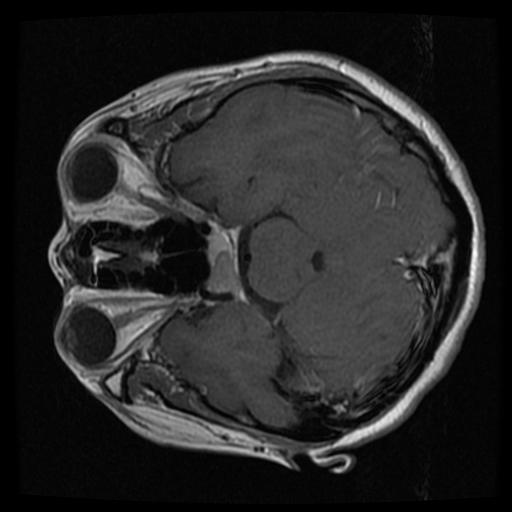pituitary tumour: (208, 226, 236, 293)
